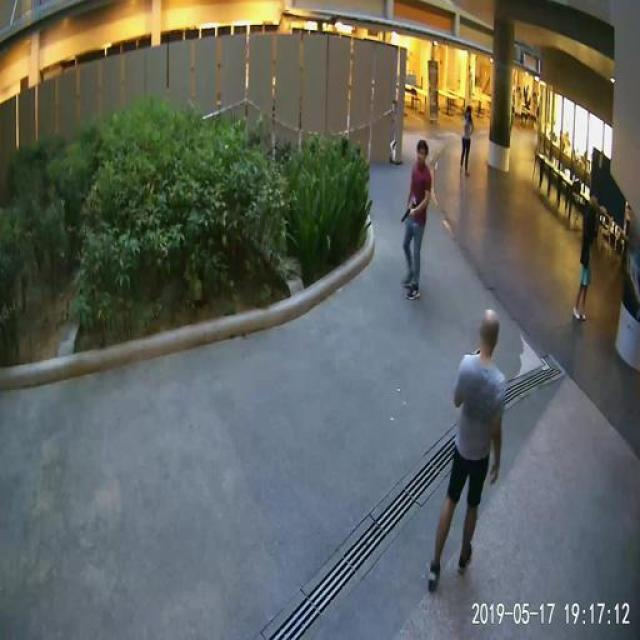Gun: (396, 195, 420, 228)
